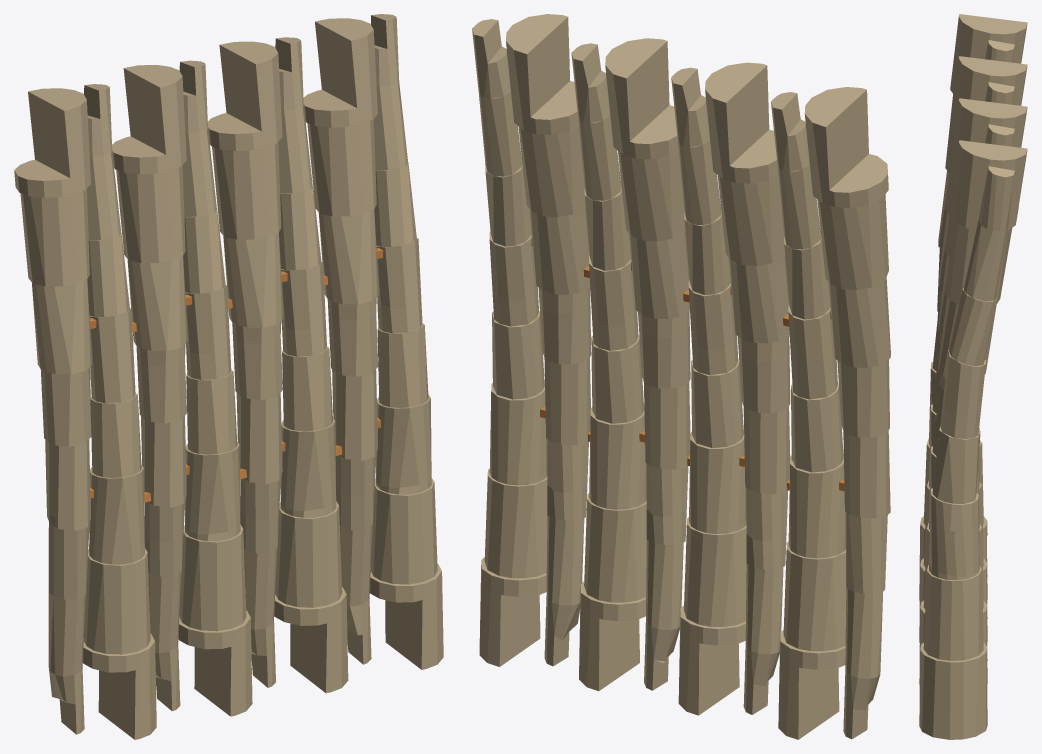
The model's file is sciana_drzwi_rot.fbx.
3 renders of one model, left to right at view 1: azimuth 30°, elevation 25°; view 2: azimuth 150°, elevation 25°; view 3: azimuth 270°, elevation 25°, orthographic. The views are drawn at different scales.
Parts seen in each view (by area): view 1: sciana.003, sciana_drzwi, branch1.003, branch1_drzwi; view 2: sciana.003, sciana_drzwi, branch1.003, branch1_drzwi; view 3: sciana.003, branch1.003, branch1_drzwi, sciana_drzwi.
Part boxes in pixels (x1,y1,x2,y2): sciana.003: (14, 18, 383, 739); sciana_drzwi: (137, 313, 380, 542); branch1.003: (369, 14, 443, 669); branch1_drzwi: (376, 298, 431, 487); sciana.003: (506, 14, 890, 739); sciana_drzwi: (539, 300, 790, 541); branch1.003: (472, 19, 547, 666); branch1_drzwi: (489, 287, 547, 483); sciana.003: (919, 14, 1027, 684); branch1.003: (919, 166, 1014, 739); branch1_drzwi: (929, 404, 980, 576); sciana_drzwi: (929, 302, 979, 525).
Size of the model in its own units: 255 by 380 by 66.17.
